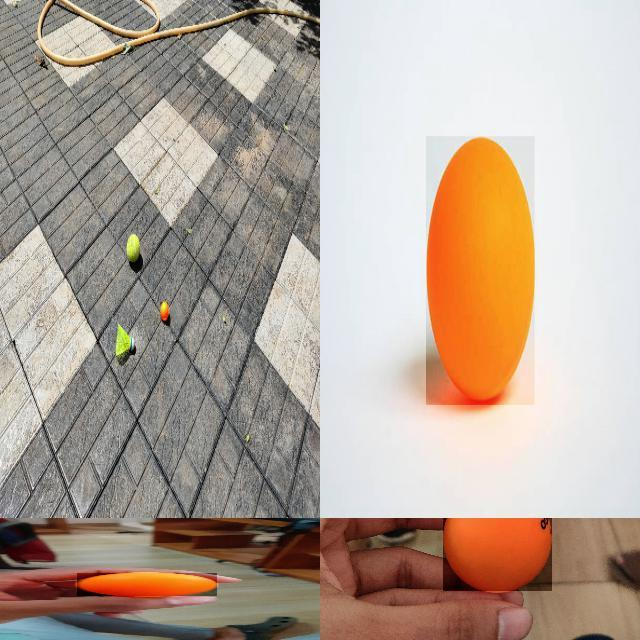ping-pong-ball: (426, 136, 535, 407), (443, 518, 554, 592), (77, 572, 218, 596), (160, 302, 168, 320)
